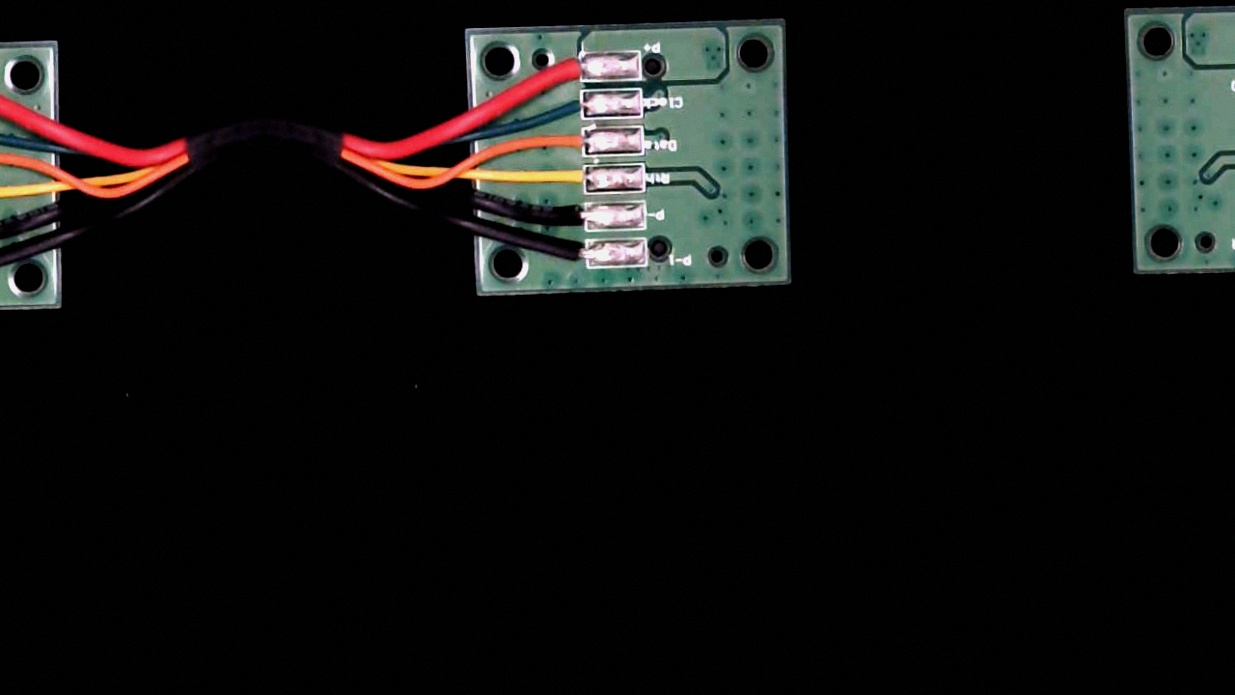Black: (536, 198, 602, 233)
Black1: (543, 241, 603, 271)
Green: (533, 86, 601, 121)
Orange: (531, 126, 601, 159)
Red: (529, 51, 597, 85)
Yellow: (542, 163, 602, 195)
